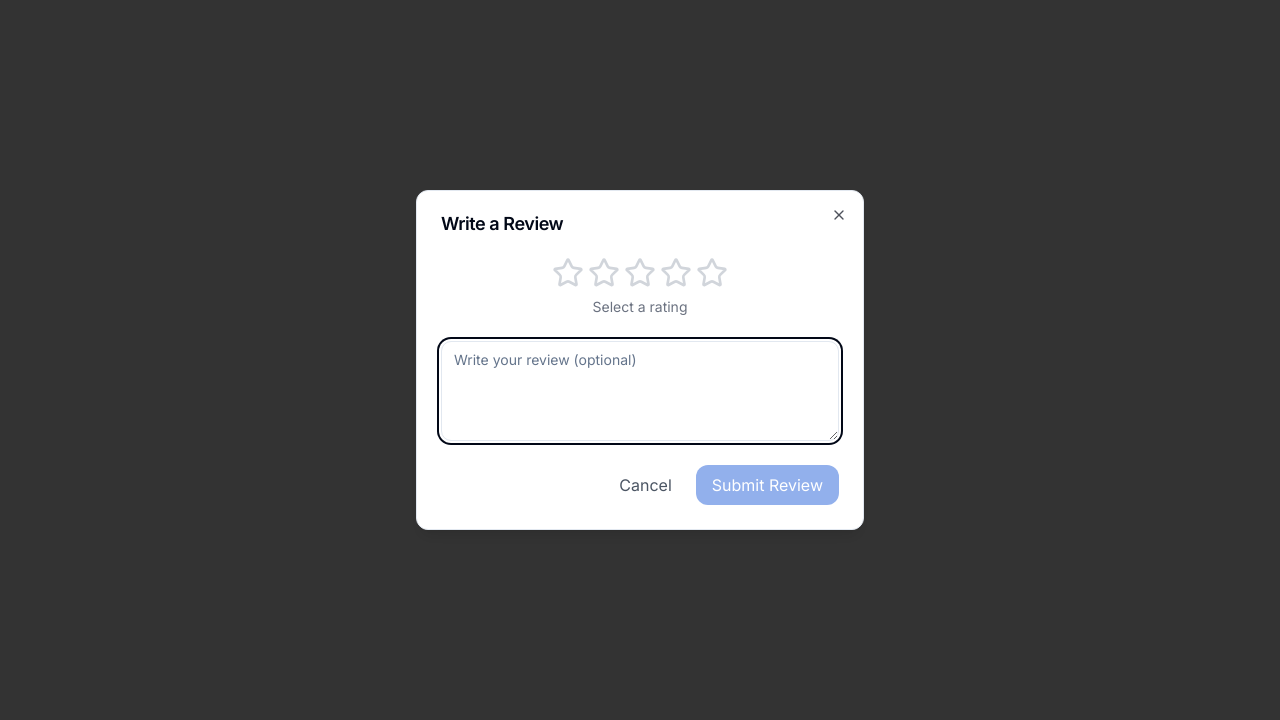
Scenario: ReviewFormDialog › allows setting a rating
Note: Click the third star
Click the 3rd icon with class "cursor-pointer" at coordinates (640, 273), box [624,257,656,289]
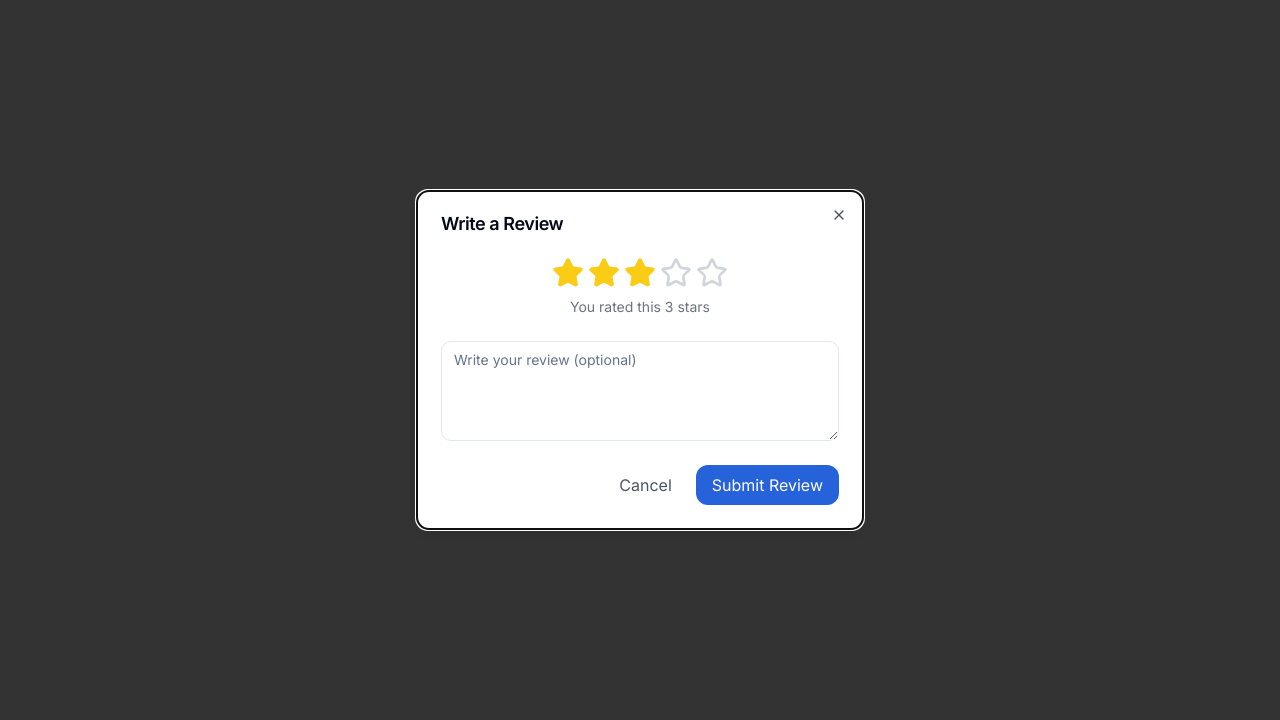
Now the text "You rated this 3 stars" is shown, box [570,297,710,317]
